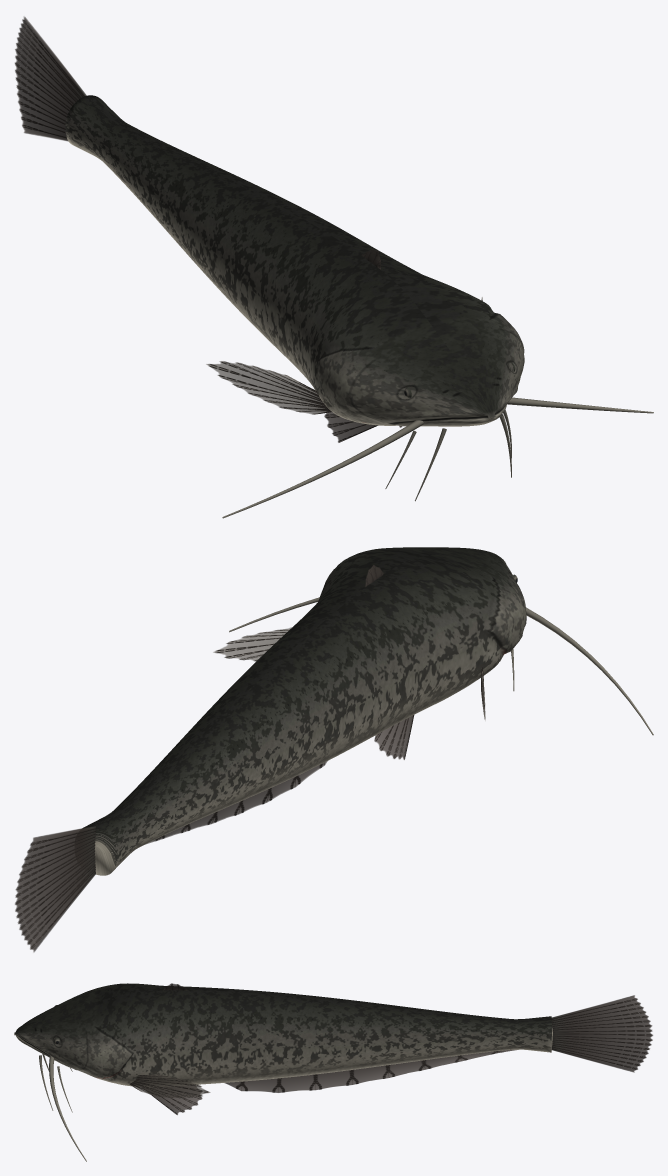
The model's file is sum.glb.
3 views of the same model, one above another, from view 1: azimuth 30°, elevation 25°; view 2: azimuth 150°, elevation 25°; view 3: azimuth 270°, elevation 25° (orthographic). The views are drawn at different scales.
Visible parts, largest first — view 1: Body, FinCaudal, FinPectoral, FinBarbels, FinPelvic; view 2: Body, FinCaudal, FinAnal, FinPectoral, FinBarbels, FinPelvic; view 3: Body, FinCaudal, FinAnal, FinPectoral, FinPelvic, FinBarbels.
Boxes of the visible parts, x1,y1,x2,y2 form: Body: (65,95,524,426); FinCaudal: (15,16,86,141); FinPectoral: (206,297,482,414); FinBarbels: (222,397,653,518); FinPelvic: (324,412,401,442); Body: (82,547,526,875); FinCaudal: (15,826,95,952); FinAnal: (147,761,327,843); FinPectoral: (213,627,485,720); FinBarbels: (229,597,653,735); FinPelvic: (374,715,414,759); Body: (14,983,552,1086); FinCaudal: (551,995,652,1072); FinAnal: (225,1049,518,1092); FinPectoral: (129,1074,210,1098); FinPelvic: (142,1085,202,1114); FinBarbels: (39,1054,86,1161).
Bounding box in the file's own units: 0.5157 × 0.2135 × 1.
9 materials, 8 textured.
